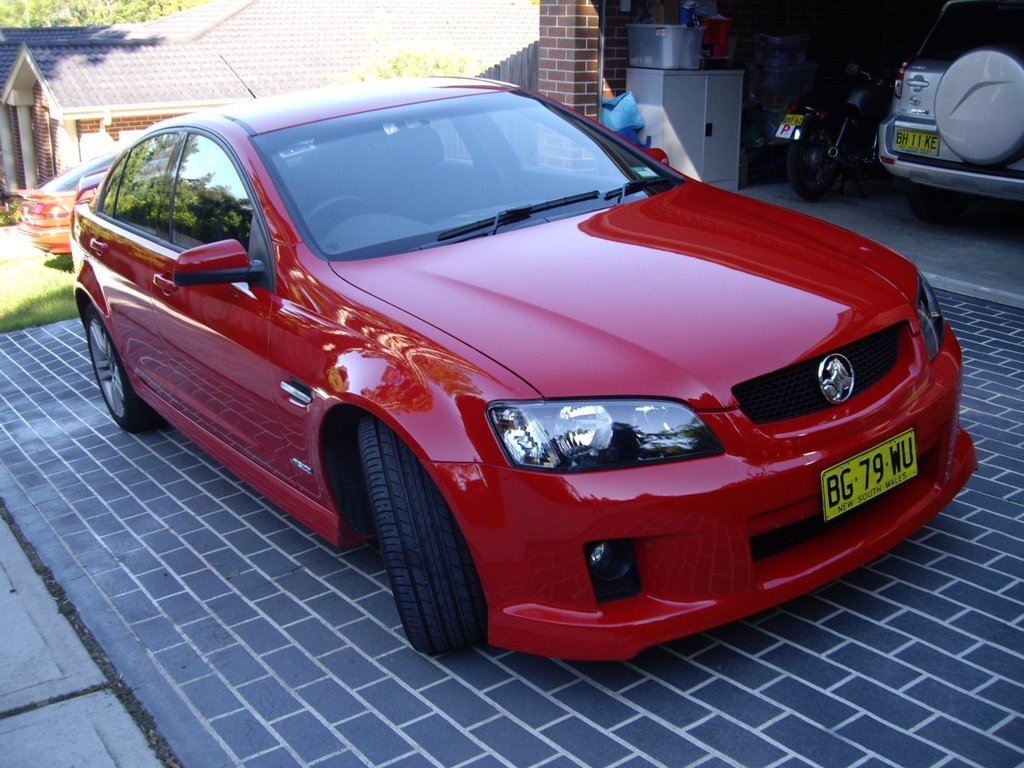Car: (68, 71, 973, 656), (870, 0, 1023, 211), (2, 152, 130, 256)
